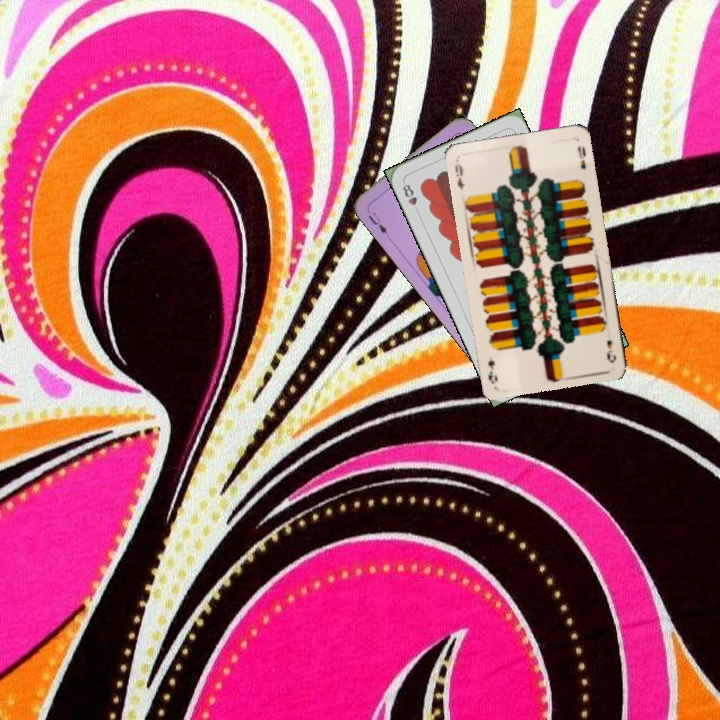E9: (451, 157, 467, 193), (602, 336, 619, 365)
EU: (364, 208, 390, 237)
H8: (399, 178, 422, 216)
